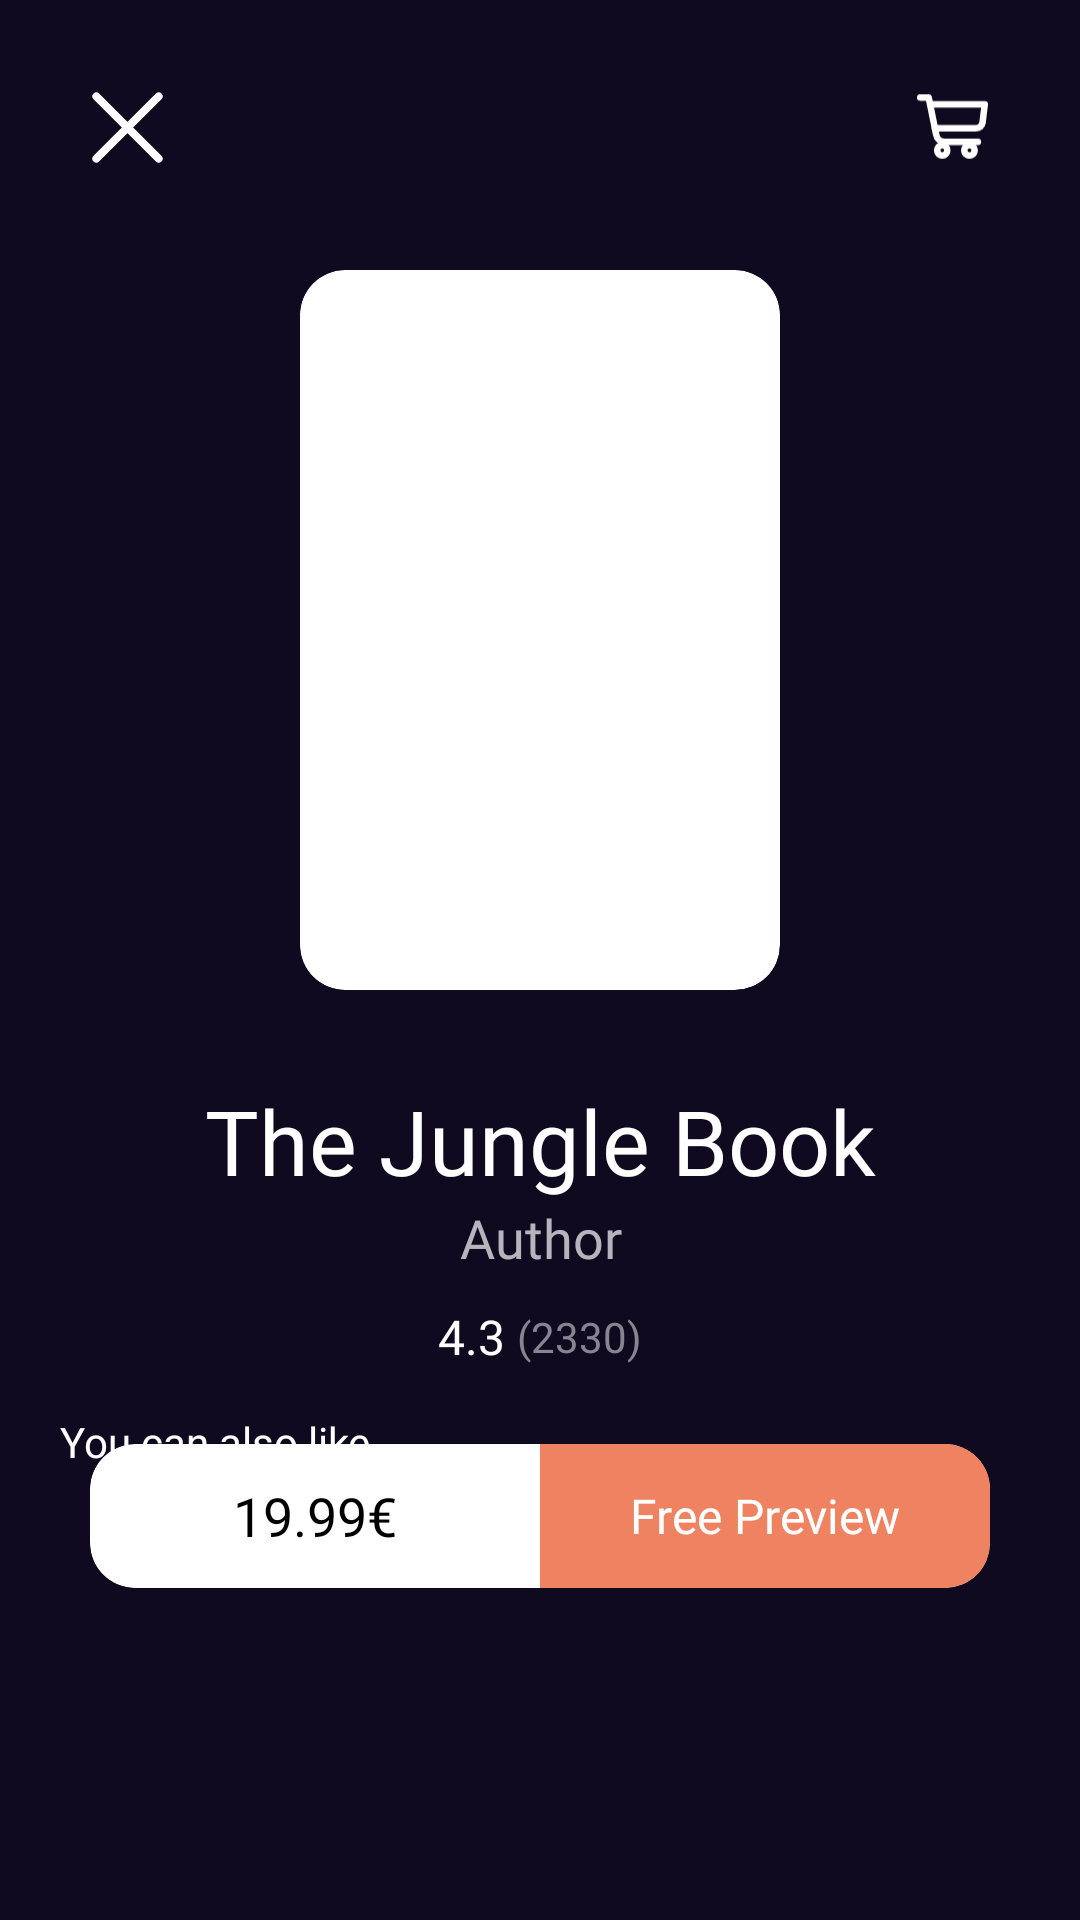

Icons on this 1080*1920 Android screen, each with its box as [left=x1, top=y1, right=x2, bottom=y2]:
close: [left=92, top=92, right=163, bottom=163]
shop: [left=917, top=94, right=988, bottom=159]
